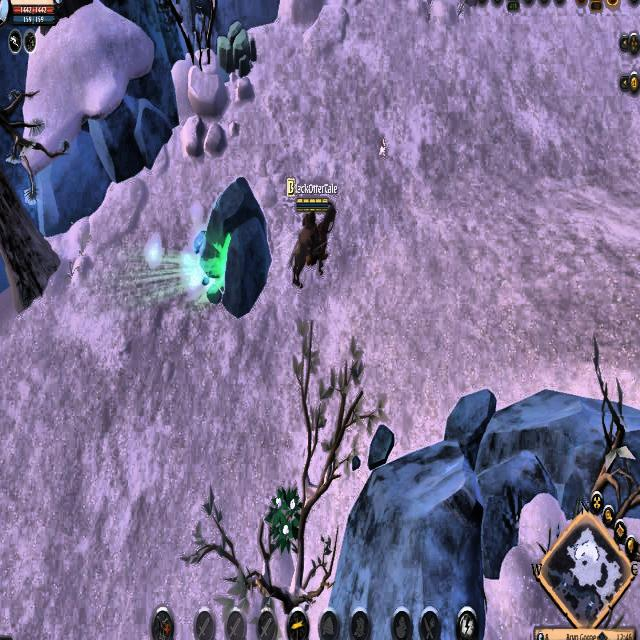sandstone: (215, 19, 256, 74)
